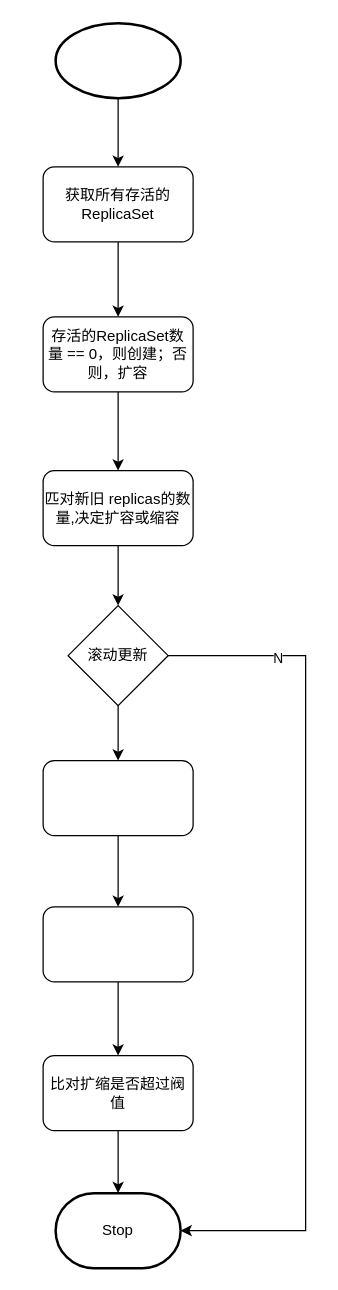
This 338x1290 diagram has some shape labels left out. The shapes that lost their labels are listed below. From the top down, each one's centre as x and y in pixels, then its label:
At (117,60): "Start".
At (117,797): "计算出需要增加或者删除的副本数".
At (117,944): "根据deploymentReplicasToAdd，决定先扩容还是缩容".
